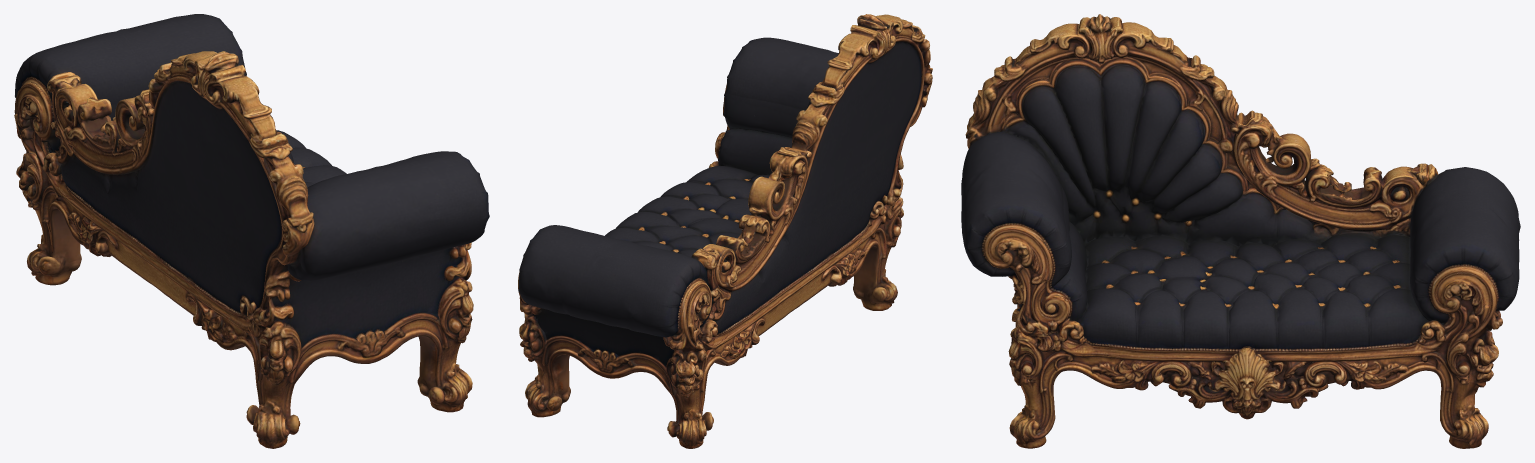
File: chaise.glb
3 views of the same model, side by side, from view 1: azimuth 30°, elevation 25°; view 2: azimuth 150°, elevation 25°; view 3: azimuth 270°, elevation 25° (orthographic). The views are drawn at different scales.
Visible parts, largest first — view 1: tripo_node_f308ca58-31e6-4f82-b523-c3e20de76a6d_0; view 2: tripo_node_f308ca58-31e6-4f82-b523-c3e20de76a6d_0; view 3: tripo_node_f308ca58-31e6-4f82-b523-c3e20de76a6d_0.
Part boxes in pixels (x1,y1,x2,y2): tripo_node_f308ca58-31e6-4f82-b523-c3e20de76a6d_0: (14,14,489,448); tripo_node_f308ca58-31e6-4f82-b523-c3e20de76a6d_0: (518,14,932,448); tripo_node_f308ca58-31e6-4f82-b523-c3e20de76a6d_0: (961,14,1520,448).
Size of the model in its own units: 0.4776 by 0.6788 by 1.
Materials: 1 (1 with a texture image).
